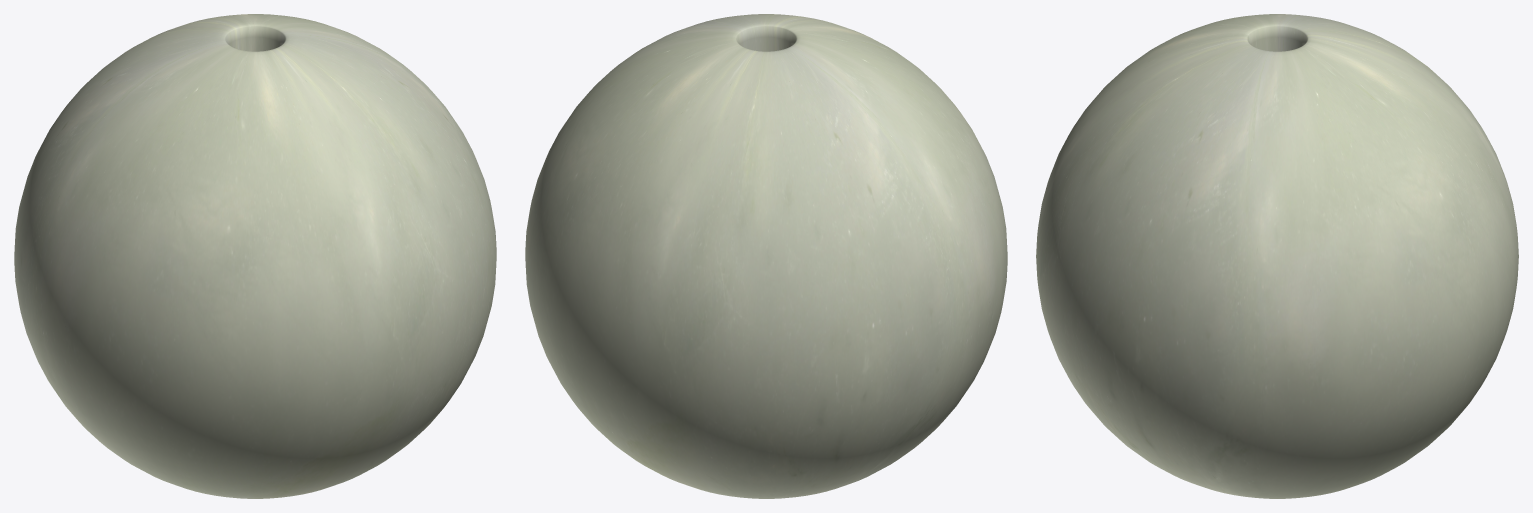
3 views of the same model, side by side, from view 1: azimuth 30°, elevation 25°; view 2: azimuth 150°, elevation 25°; view 3: azimuth 270°, elevation 25° (orthographic).
Visible parts, largest first — view 1: Sphere; view 2: Sphere; view 3: Sphere.
Boxes of the visible parts, <box> form: Sphere: <box>14,14,496,498</box>; Sphere: <box>525,14,1007,498</box>; Sphere: <box>1036,14,1518,498</box>.
Bounding box in the file's own units: 0.9872 × 0.985 × 0.9872.
1 material, 1 textured.
